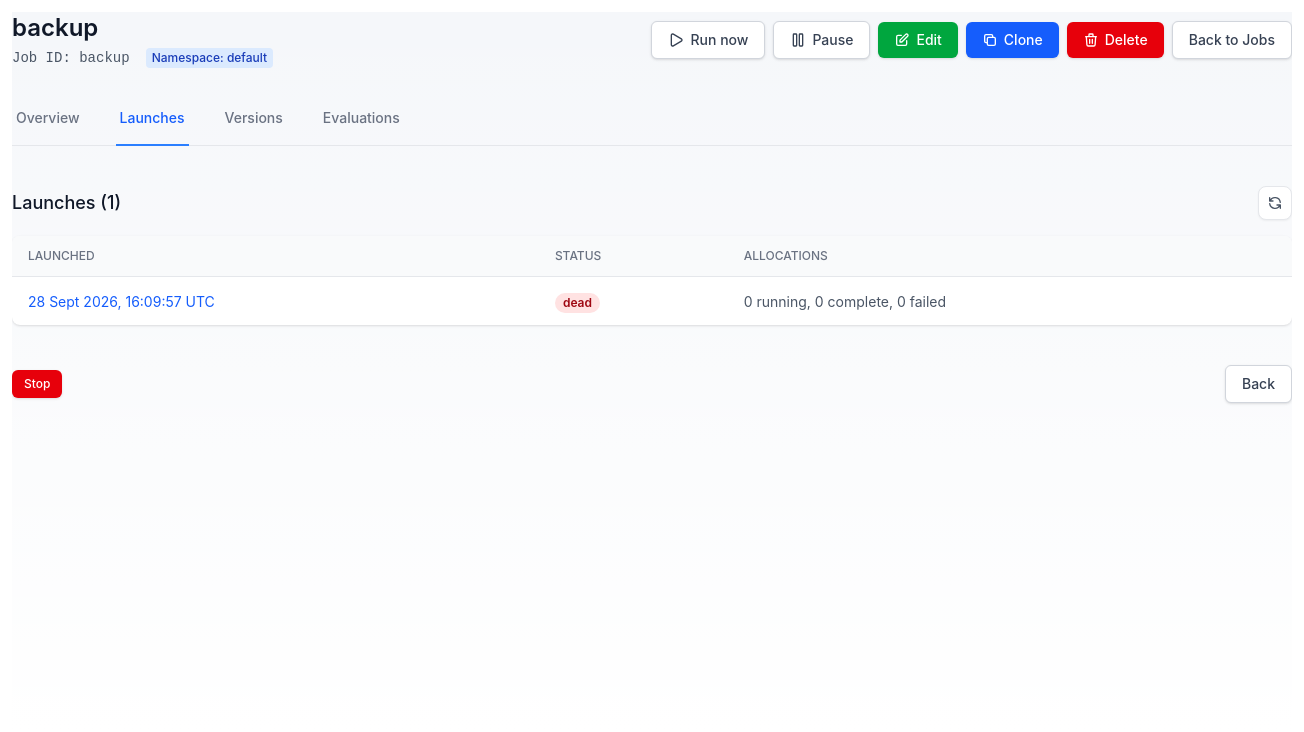
JobDetailPage for a periodic job › opening a launch does not ask for launches of the launch
Click the link "28 Sept 2026, 16:09:57 UTC" at (121, 302), box left=28, top=293, right=215, bottom=310
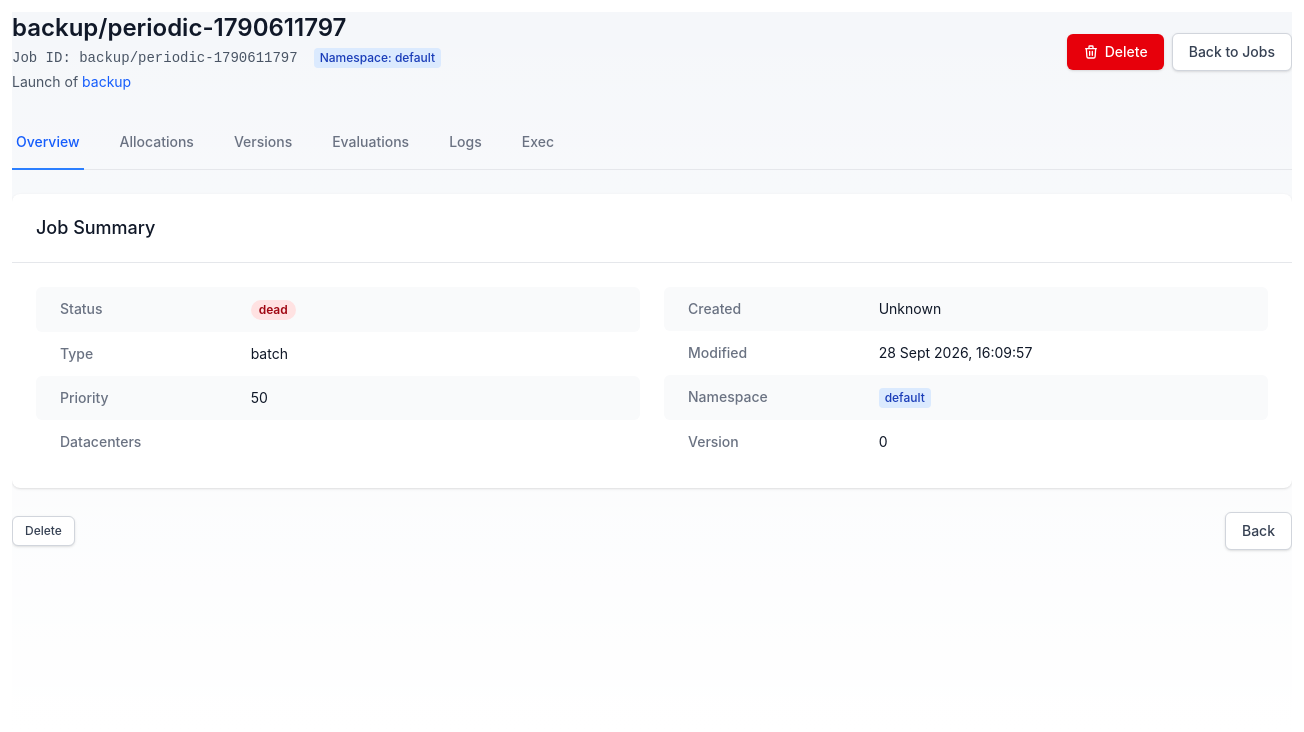
Result: the link "backup" is shown at left=82, top=73, right=131, bottom=90
